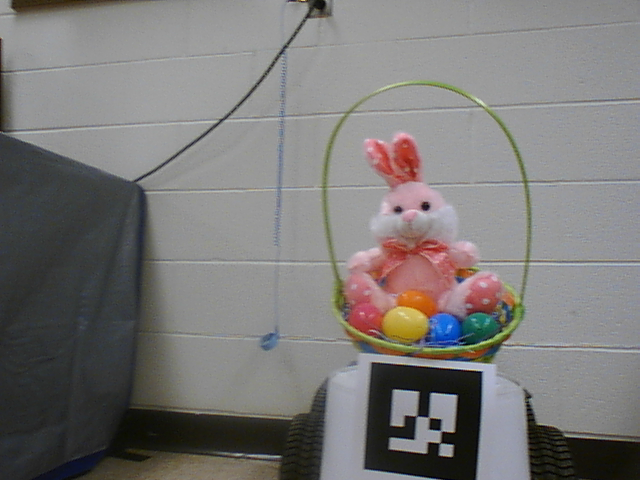bunny: (309, 75, 542, 373)
